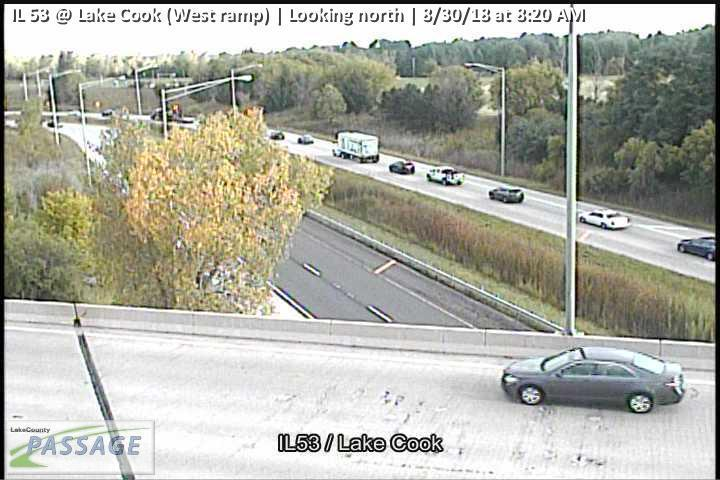SUV: (389, 160, 415, 174)
Sedan: (500, 348, 685, 413), (579, 208, 631, 230), (677, 238, 720, 260), (488, 187, 522, 204), (298, 134, 313, 144)
Truck: (332, 130, 380, 165), (427, 165, 464, 185)
